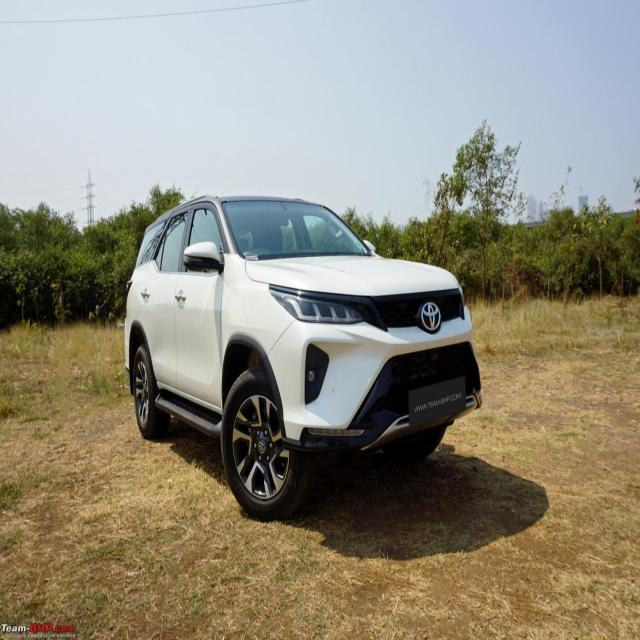light_vehicle: (123, 195, 483, 520)
